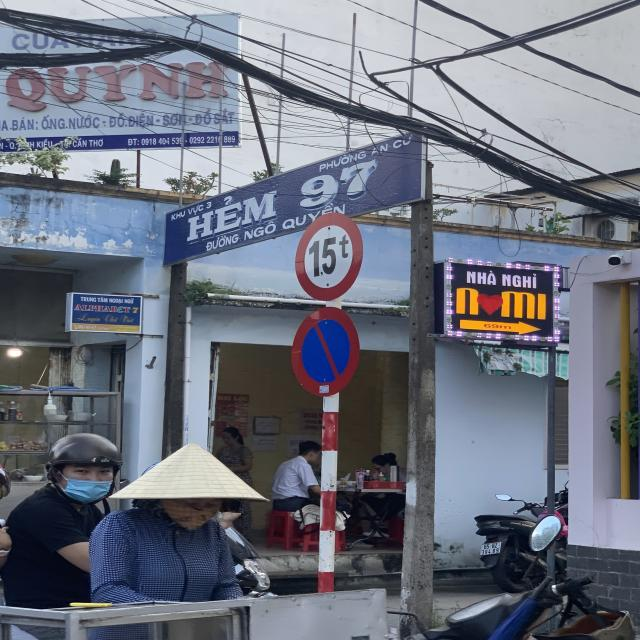Cam_Dau_Xe: (290, 306, 362, 398)
